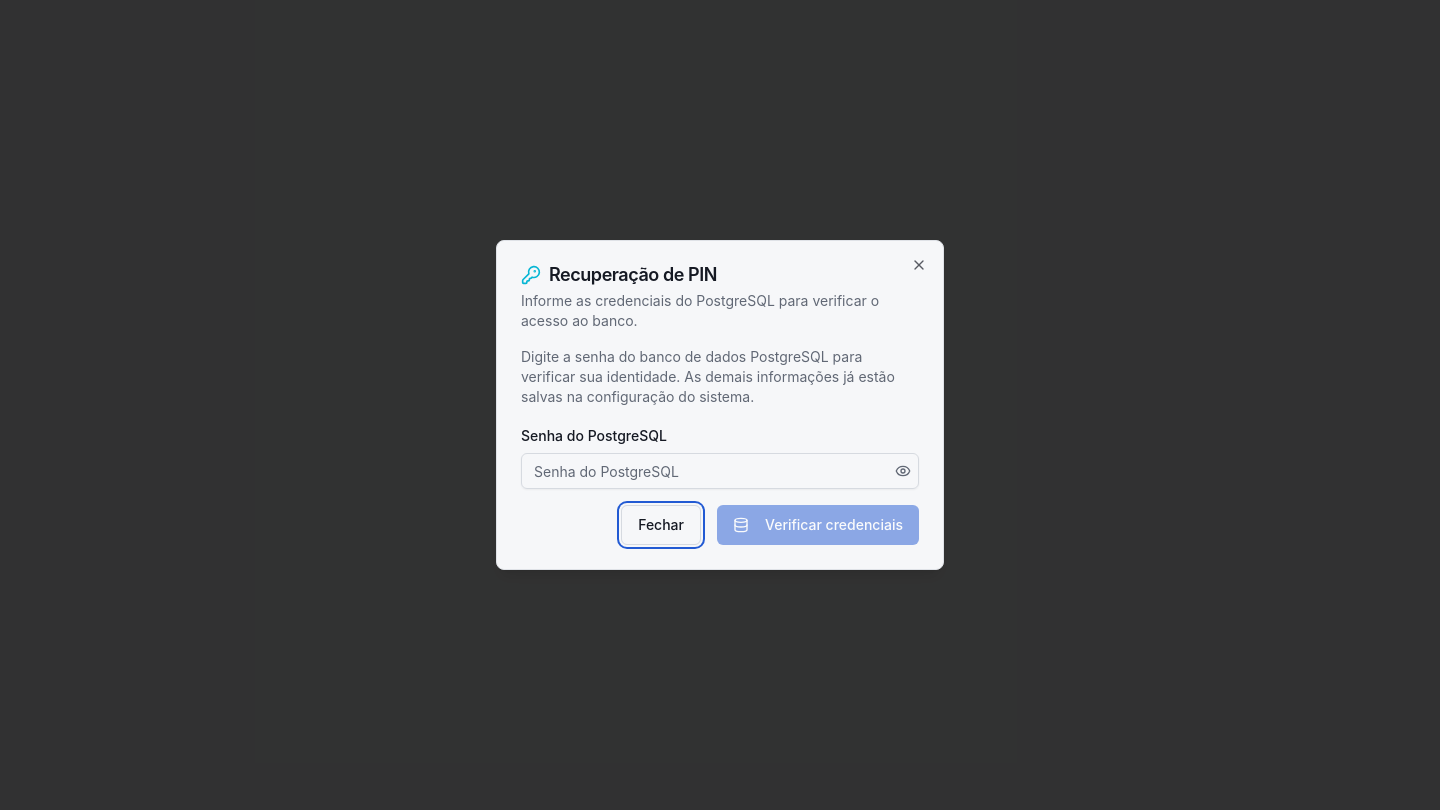
Test: PasswordRecoveryDialog › Step 1 — Senha PostgreSQL apenas › alterna visibilidade da senha ao clicar no botão de olho
This screenshot has width=1440, height=810.
Click the button named "Mostrar senha".
click(903, 471)  # box left=895, top=463, right=911, bottom=479
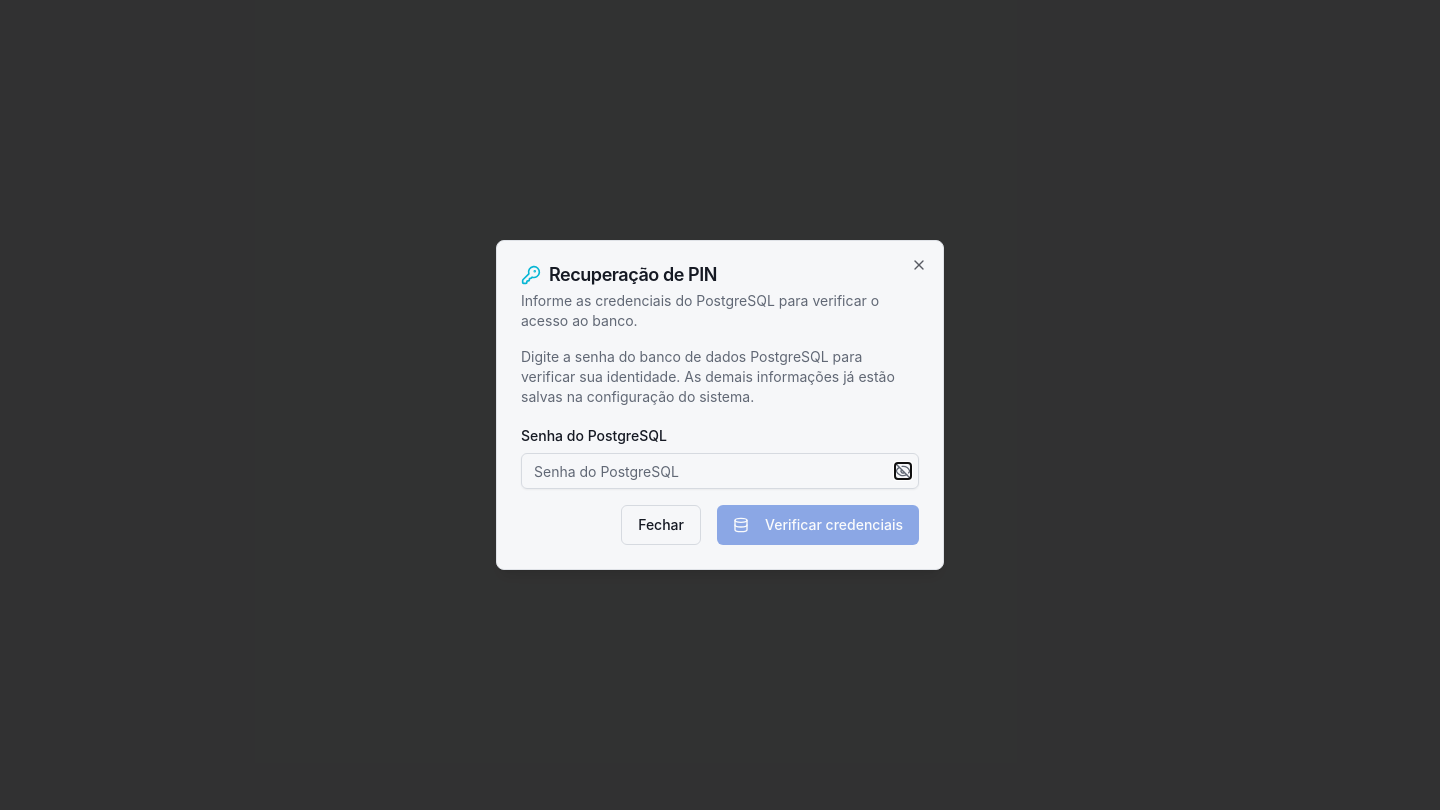
expect the button named "Ocultar senha" is shown: met, box left=895, top=463, right=911, bottom=479
